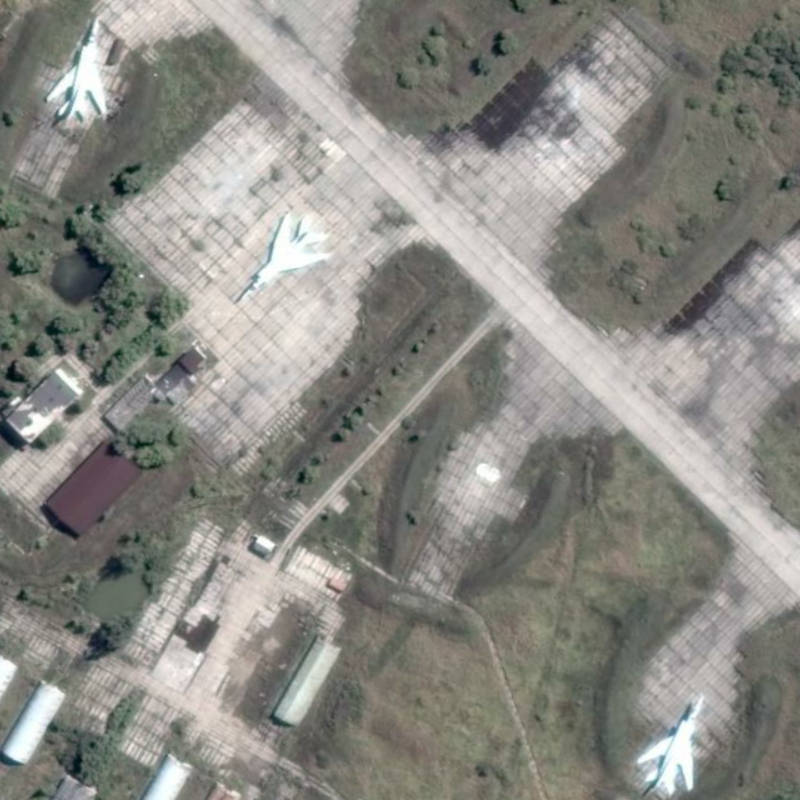A12: (234, 209, 334, 307), (633, 692, 706, 800), (41, 13, 110, 127)
